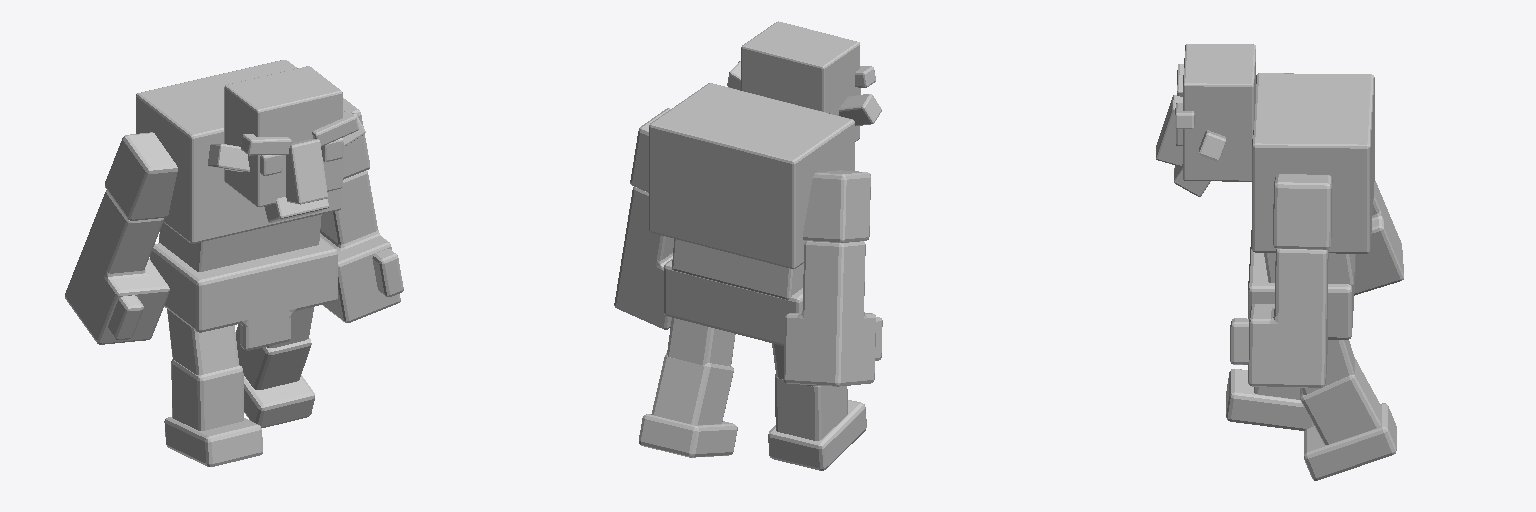
Rendered from Giant.obj.
The picture shows the model from 3 angles: view 1: azimuth 30°, elevation 25°; view 2: azimuth 150°, elevation 25°; view 3: azimuth 270°, elevation 25°; orthographic projection.
Parts seen in each view (by area): view 1: Giant_Cube.196; view 2: Giant_Cube.196; view 3: Giant_Cube.196.
Part boxes in pixels (x1,y1,x2,y2): Giant_Cube.196: (65,60,403,466); Giant_Cube.196: (614,21,882,470); Giant_Cube.196: (1156,44,1403,480).
Bounding box in the file's own units: 2.88 × 3.96 × 2.34.